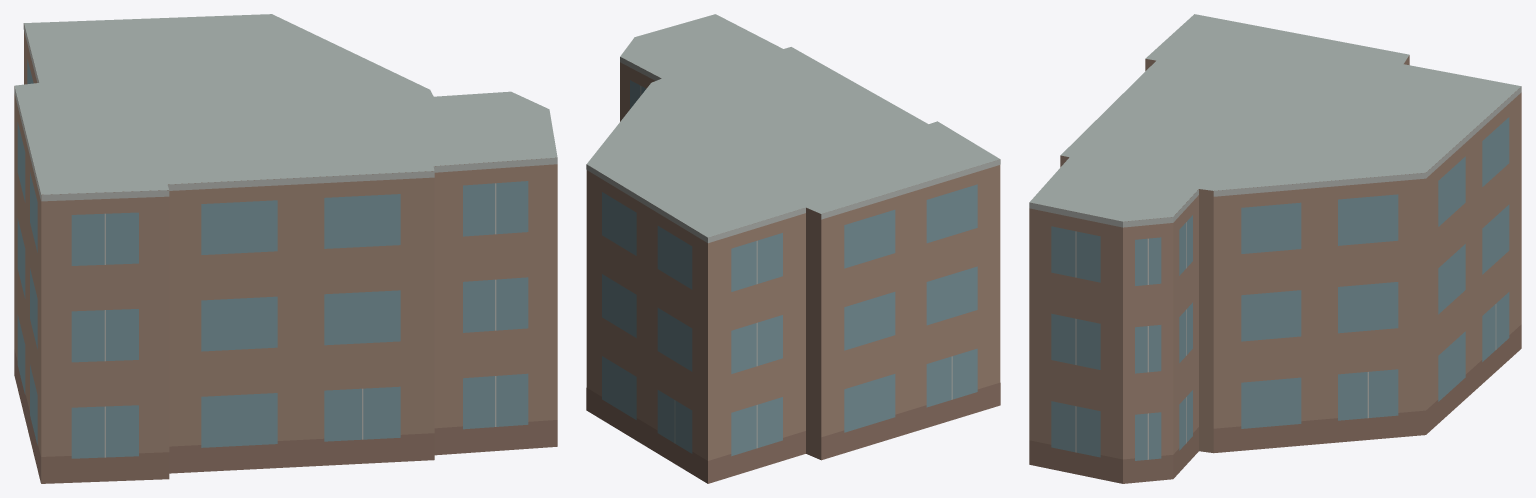
The model's file is survey-upis-32707426.glb.
3 views of the same model, side by side, from view 1: azimuth 30°, elevation 25°; view 2: azimuth 150°, elevation 25°; view 3: azimuth 270°, elevation 25° (orthographic). The views are drawn at different scales.
Visible parts, largest first — view 1: survey-upis-32707426.tmp; view 2: survey-upis-32707426.tmp; view 3: survey-upis-32707426.tmp.
Boxes of the visible parts, x1,y1,x2,y2 form: survey-upis-32707426.tmp: (14, 14, 557, 483); survey-upis-32707426.tmp: (586, 14, 1000, 483); survey-upis-32707426.tmp: (1029, 14, 1521, 483).
Bounding box in the file's own units: 18.17 × 10.7 × 18.21.
